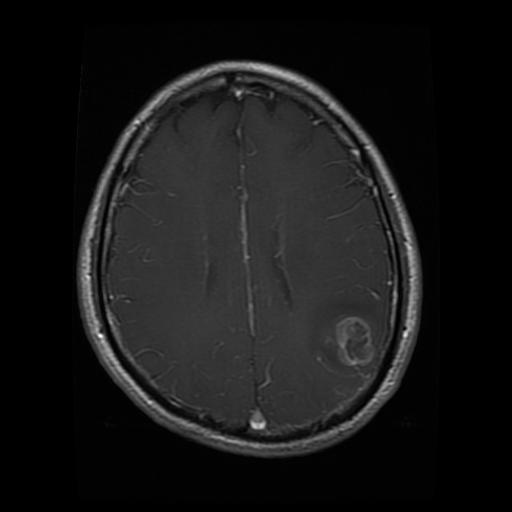Gliomia_tumour: (311, 282, 386, 373)
